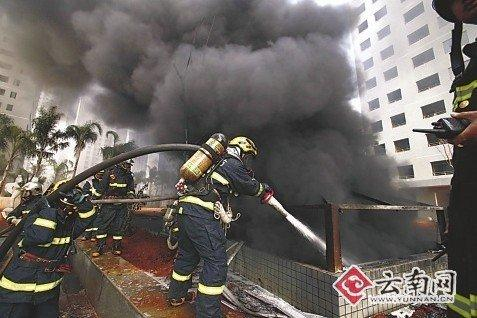smoke: (94, 7, 363, 129)
